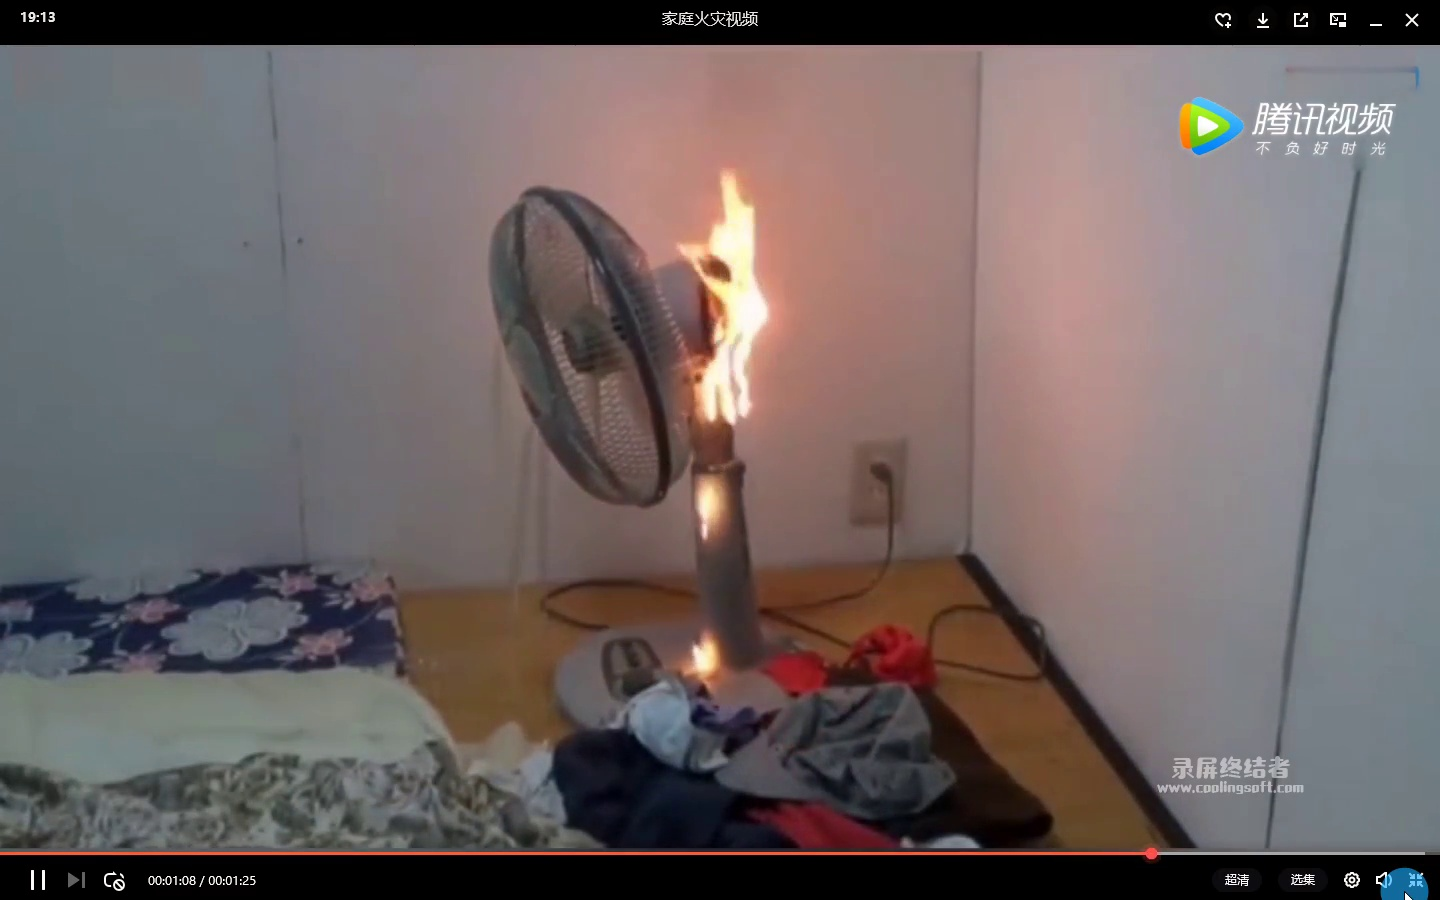fire: (685, 161, 777, 417)
